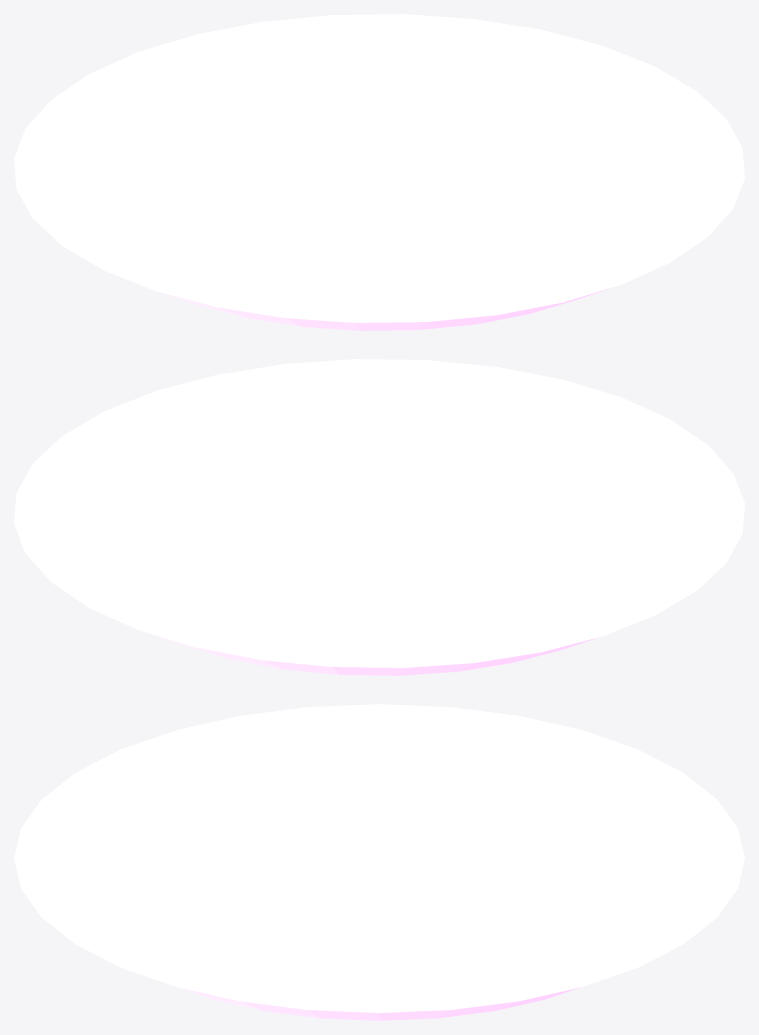
File: GIRLSGENERATION_LICHT.glb
3 renders of one model, top to bottom at view 1: azimuth 30°, elevation 25°; view 2: azimuth 150°, elevation 25°; view 3: azimuth 270°, elevation 25°, orthographic.
Bounding box in the file's own units: 0.101 × 0.00547 × 0.101.
